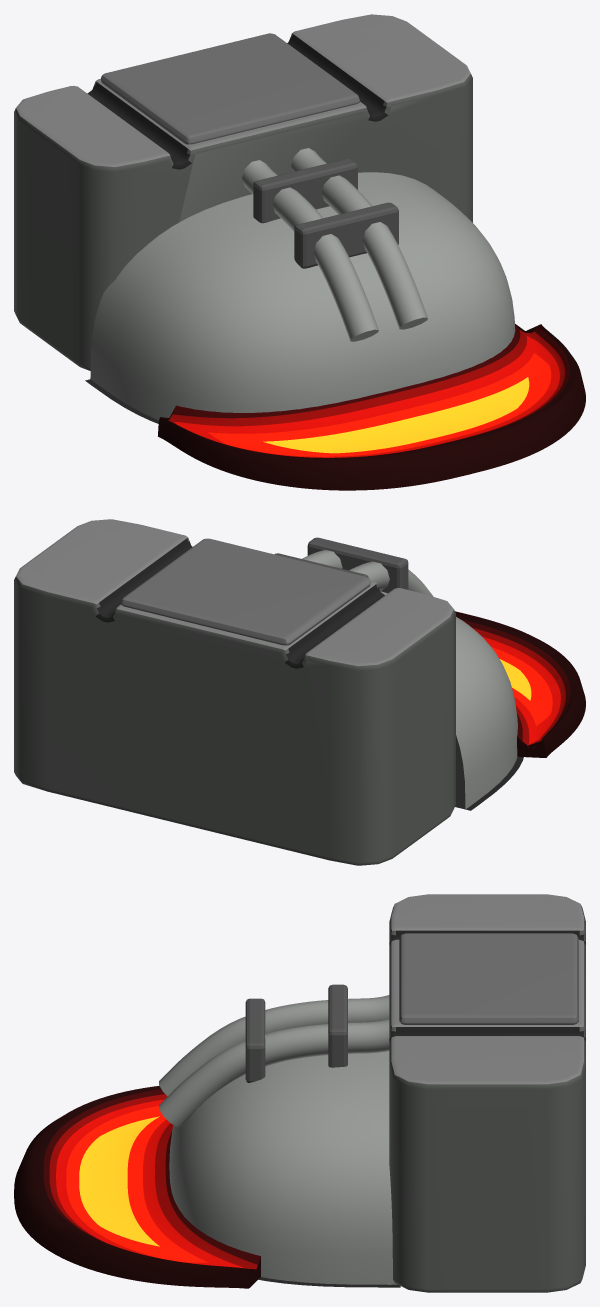
Rendered from vent_dome_239.glb.
3 renders of one model, top to bottom at view 1: azimuth 30°, elevation 25°; view 2: azimuth 150°, elevation 25°; view 3: azimuth 270°, elevation 25°, orthographic. The views are drawn at different scales.
Parts seen in each view (by area): view 1: shield, head, vent, plate, pipe0, pipe1, strap1, strap0; view 2: head, plate, shield, vent, strap1, pipe0; view 3: head, shield, vent, plate, pipe1, pipe0, strap1, strap0.
Part boxes in pixels (<box>): shield: <box>85,172,515,423</box>; head: <box>14,14,472,370</box>; vent: <box>158,324,585,490</box>; plate: <box>101,33,359,144</box>; pipe0: <box>242,160,378,341</box>; pipe1: <box>291,148,427,329</box>; strap1: <box>294,202,398,268</box>; strap0: <box>253,159,357,223</box>; head: <box>14,519,455,865</box>; plate: <box>121,538,370,645</box>; shield: <box>380,591,523,810</box>; vent: <box>455,611,585,757</box>; strap1: <box>307,537,408,593</box>; pipe0: <box>349,561,433,596</box>; head: <box>389,894,585,1292</box>; shield: <box>169,1051,400,1287</box>; vent: <box>14,1086,260,1288</box>; plate: <box>399,933,578,1024</box>; pipe1: <box>159,1019,389,1127</box>; pipe0: <box>159,995,389,1096</box>; strap1: <box>245,998,265,1082</box>; strap0: <box>328,984,347,1067</box>.
Size of the model in its own units: 16.28 by 8.5 by 20.08.
